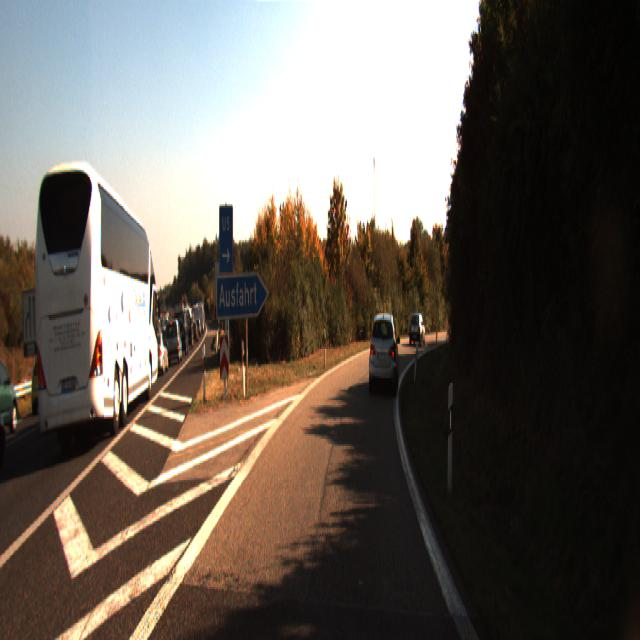Car: (32, 152, 159, 456), (368, 309, 399, 394), (32, 346, 68, 411), (0, 350, 20, 443), (146, 328, 169, 375), (165, 318, 182, 364), (409, 313, 426, 347), (442, 300, 457, 326)
